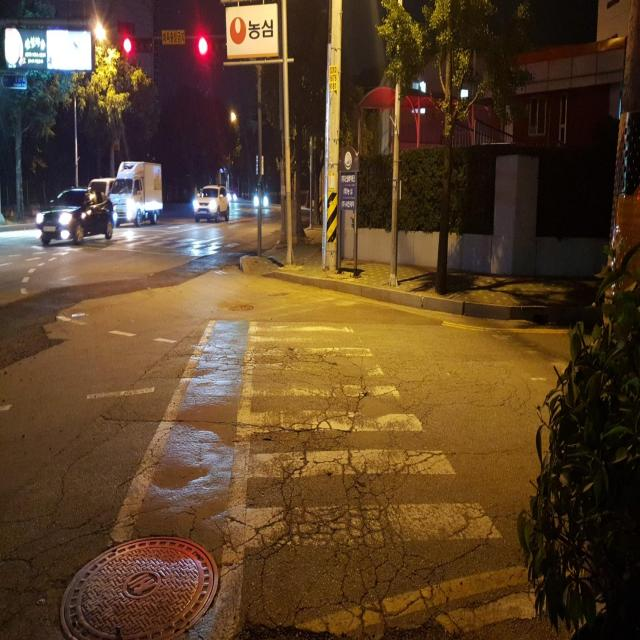횡단보도: (243, 320, 504, 550), (119, 229, 228, 261)
